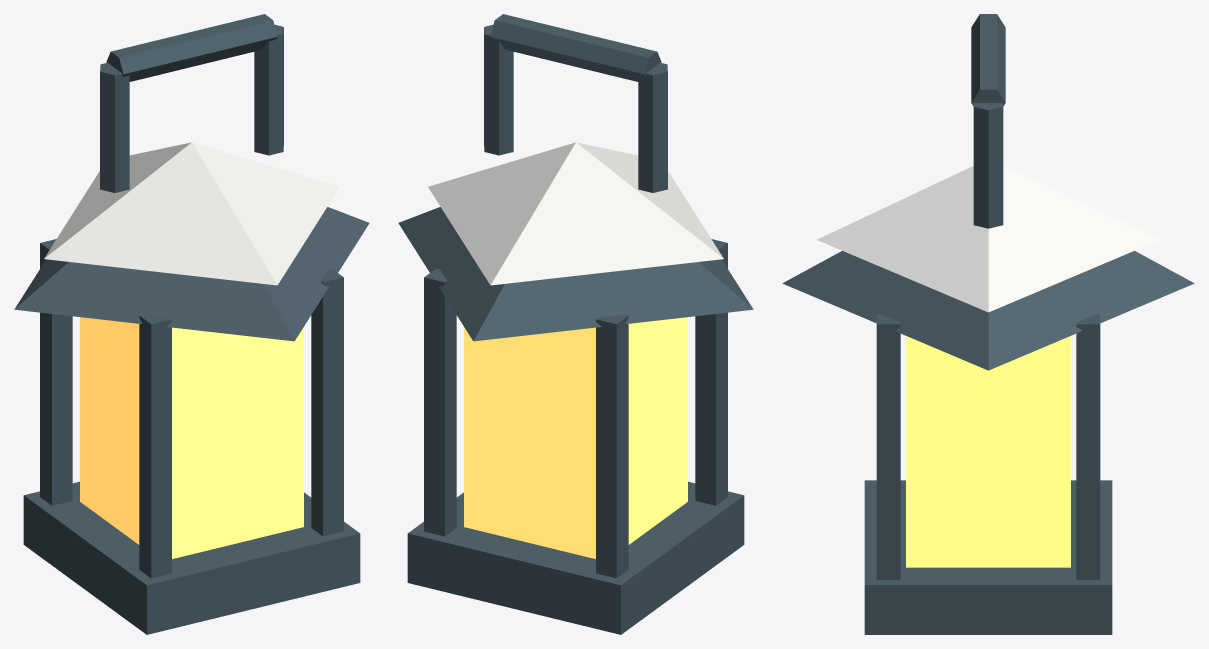
File: winter-hearth-village-hand-lantern-2af9417e__21840.glb
3 views of the same model, side by side, from view 1: azimuth 30°, elevation 25°; view 2: azimuth 150°, elevation 25°; view 3: azimuth 270°, elevation 25° (orthographic).
Parts seen in each view (by area): view 1: hand-lantern-iron, hand-lantern-amber, hand-lantern-snow; view 2: hand-lantern-iron, hand-lantern-amber, hand-lantern-snow; view 3: hand-lantern-iron, hand-lantern-amber, hand-lantern-snow.
Boxes of the visible parts, x1,y1,x2,y2 form: hand-lantern-iron: [14, 14, 369, 634]; hand-lantern-amber: [80, 317, 303, 558]; hand-lantern-snow: [44, 142, 339, 285]; hand-lantern-iron: [398, 14, 753, 634]; hand-lantern-amber: [464, 317, 687, 558]; hand-lantern-snow: [428, 142, 723, 285]; hand-lantern-iron: [782, 14, 1194, 634]; hand-lantern-amber: [906, 336, 1070, 567]; hand-lantern-snow: [817, 166, 1159, 312].
Size of the model in its own units: 0.6 by 0.8517 by 0.6.
